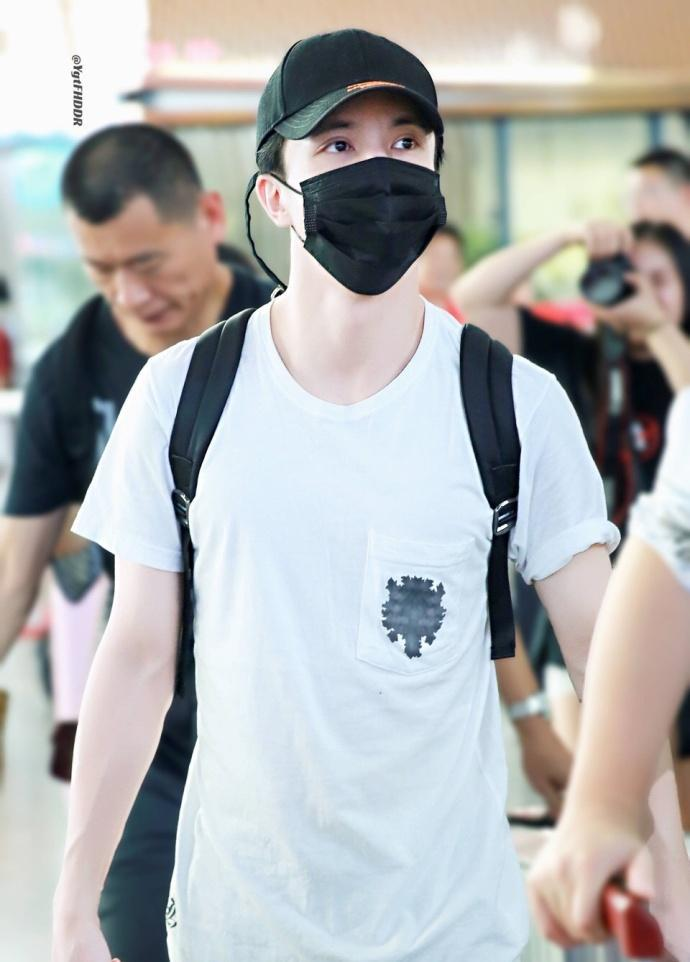NONE: (82, 221, 209, 336), (617, 257, 690, 341)
OK: (288, 105, 455, 272)
